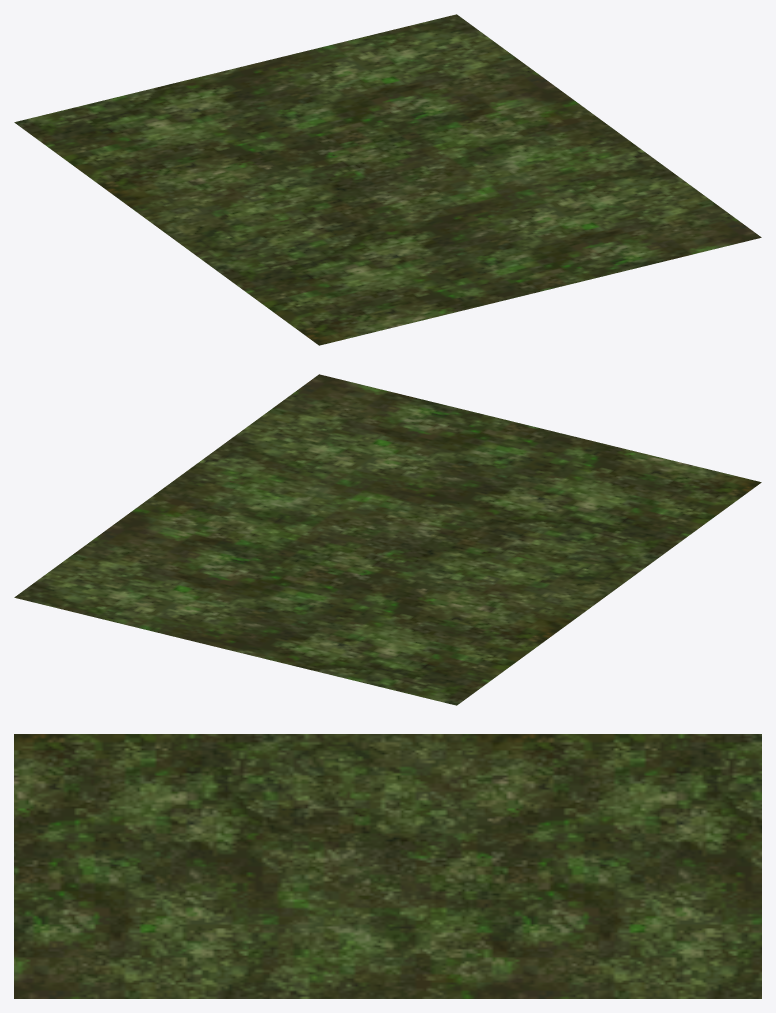
Rendered from OVERHILL_A_01_LINE189.fbx.
3 renders of one model, top to bottom at view 1: azimuth 30°, elevation 25°; view 2: azimuth 150°, elevation 25°; view 3: azimuth 270°, elevation 25°, orthographic. The views are drawn at different scales.
Visible parts, largest first — view 1: OVERHILL_A_01_LINE189; view 2: OVERHILL_A_01_LINE189; view 3: OVERHILL_A_01_LINE189.
Boxes of the visible parts, left/top/right/bottom form: OVERHILL_A_01_LINE189: left=14, top=14, right=761, bottom=345; OVERHILL_A_01_LINE189: left=14, top=374, right=761, bottom=705; OVERHILL_A_01_LINE189: left=14, top=734, right=761, bottom=998.
Bounding box in the file's own units: 42015 × 0.0293 × 50148.
Materials: 1 (1 with a texture image).
